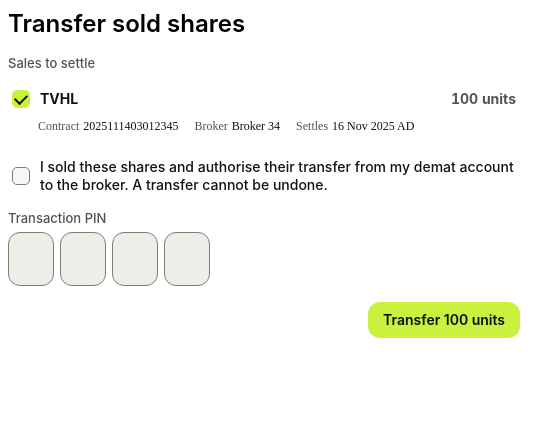
it: EdisConfirmation › refuses to confirm with nothing chosen
Click the checkbox with test id "ed-pick-ed-1": (21, 99) [12,90,30,108]
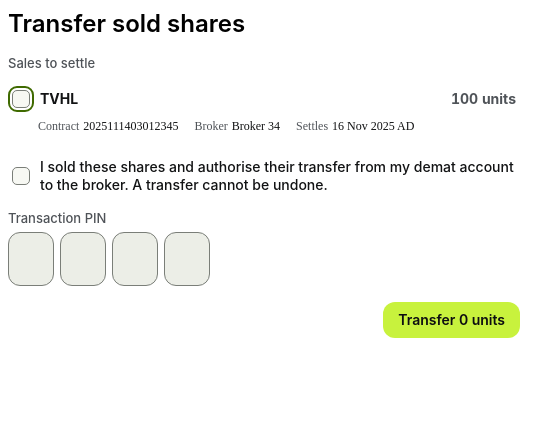
Click the button with test id "ed-confirm": (452, 320) [383,302,520,338]
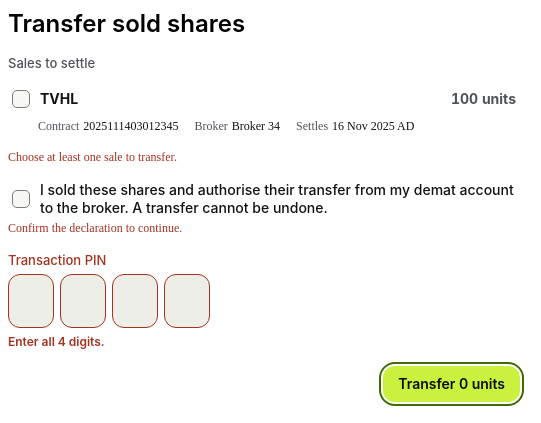
Expected: the message "Choose at least one sale to transfer." is shown, [8,150,177,164]
